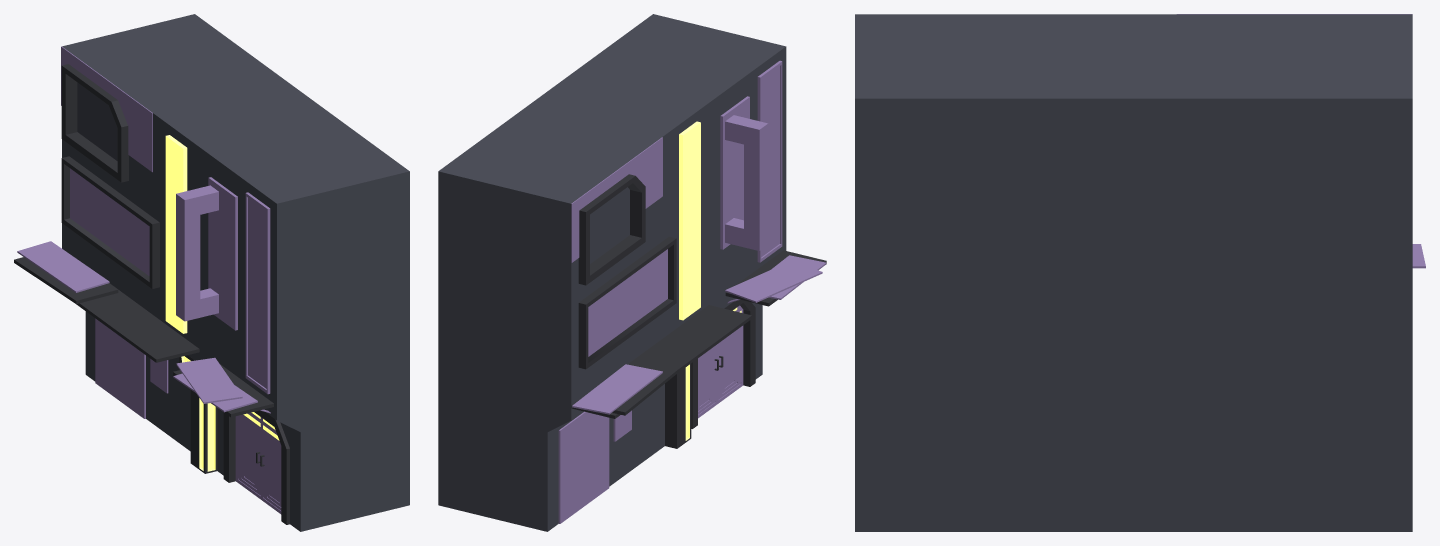
File: Building_R_01_Env_BLOCK.fbx
3 renders of one model, left to right at view 1: azimuth 30°, elevation 25°; view 2: azimuth 150°, elevation 25°; view 3: azimuth 270°, elevation 25°, orthographic. The views are drawn at different scales.
Visible parts, largest first — view 1: BuildingBase_BLOCK, Pipe_Curved_BLOCK, MidGrate_BLOCK, HangingBlock_02_BLOCK, PipePanel_BLOCK, DoorBase_BLOCK, TopWindowFrame_BLOCK, TopGrate_BLOCK, GarageGrate_BLOCK, MidGrateFrame_BLOCK, TopBlockLight_EM_BLOCK, DecGrate_01_BLOCK (+8 smaller); view 2: BuildingBase_BLOCK, GarageGrate_BLOCK, Pipe_Curved_BLOCK, TopBlockLight_EM_BLOCK, MidGrate_BLOCK, HangingBlock_02_BLOCK, TopWindowFrame_BLOCK, MidGrateFrame_BLOCK, DoorBase_BLOCK, PipePanel_BLOCK, TopGrate_BLOCK, DecGrate_01_BLOCK (+7 smaller); view 3: BuildingBase_BLOCK.
Part boxes in pixels (<box>): BuildingBase_BLOCK: <box>61,14,409,531</box>; Pipe_Curved_BLOCK: <box>176,185,218,321</box>; MidGrate_BLOCK: <box>70,168,149,275</box>; HangingBlock_02_BLOCK: <box>63,249,199,362</box>; PipePanel_BLOCK: <box>208,177,237,330</box>; DoorBase_BLOCK: <box>235,412,281,514</box>; TopWindowFrame_BLOCK: <box>61,64,128,182</box>; TopGrate_BLOCK: <box>248,198,266,388</box>; GarageGrate_BLOCK: <box>95,318,145,418</box>; MidGrateFrame_BLOCK: <box>61,156,159,288</box>; TopBlockLight_EM_BLOCK: <box>165,135,187,333</box>; DecGrate_01_BLOCK: <box>17,241,109,292</box>; BuildingBase_BLOCK: <box>438,14,786,531</box>; GarageGrate_BLOCK: <box>558,411,609,523</box>; Pipe_Curved_BLOCK: <box>725,115,768,250</box>; TopBlockLight_EM_BLOCK: <box>679,121,700,320</box>; MidGrate_BLOCK: <box>588,249,667,356</box>; HangingBlock_02_BLOCK: <box>571,305,751,418</box>; TopWindowFrame_BLOCK: <box>578,174,645,285</box>; MidGrateFrame_BLOCK: <box>578,236,676,369</box>; DoorBase_BLOCK: <box>698,305,743,418</box>; PipePanel_BLOCK: <box>720,96,749,249</box>; TopGrate_BLOCK: <box>761,66,779,256</box>; DecGrate_01_BLOCK: <box>572,364,662,414</box>; BuildingBase_BLOCK: <box>855,14,1412,531</box>.
Size of the model in its own units: 3.53 by 6 by 7.17.
